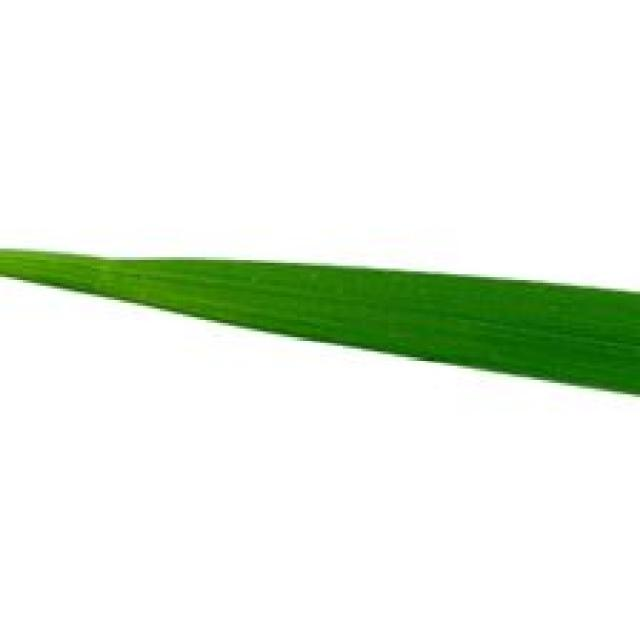Rice___Healthy_Rice_Plant: (0, 247, 637, 398)
